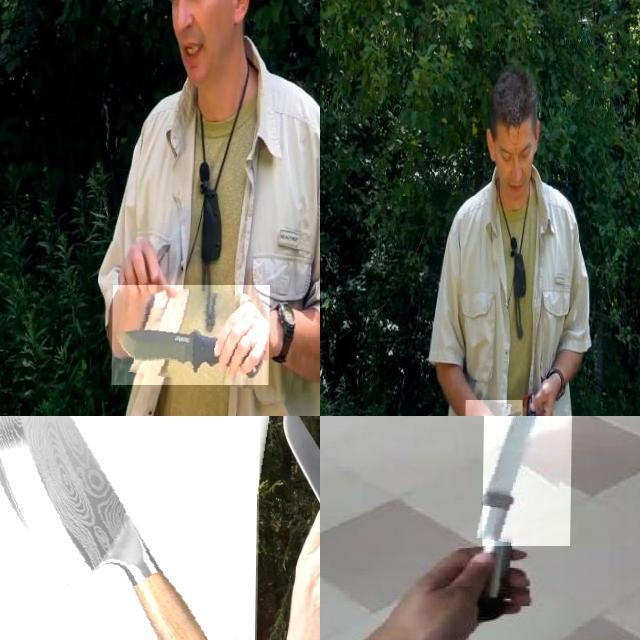-: (0, 416, 261, 640), (114, 285, 272, 385), (483, 416, 574, 546), (274, 416, 320, 628), (466, 400, 524, 416)
